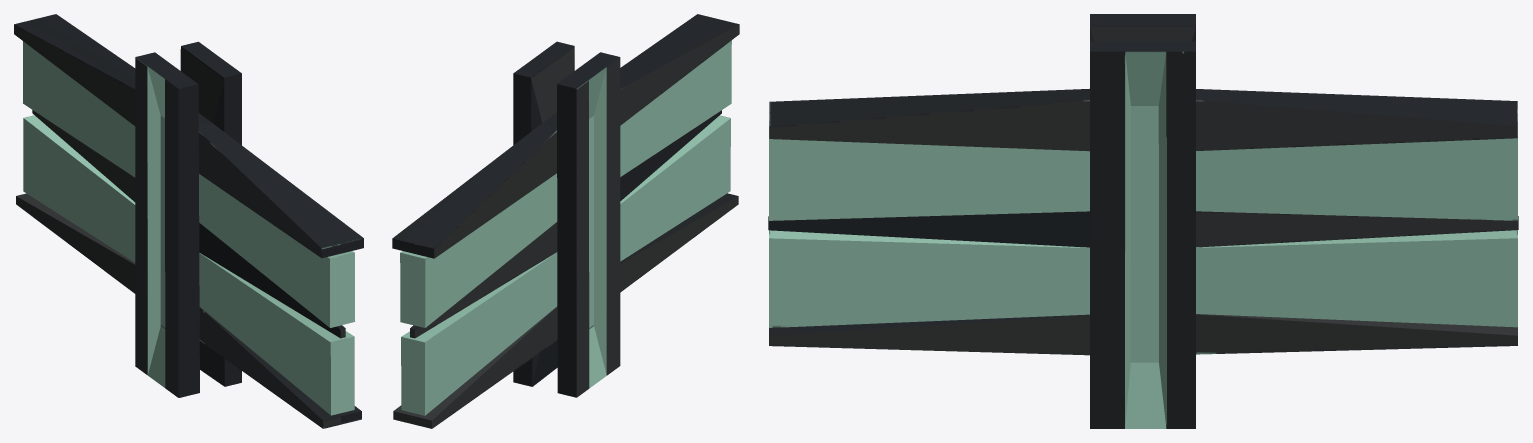
The model's file is FenceGreenTexture.fbx.
The picture shows the model from 3 angles, left to right: view 1: azimuth 30°, elevation 25°; view 2: azimuth 150°, elevation 25°; view 3: azimuth 270°, elevation 25°; orthographic projection. The views are drawn at different scales.
Visible parts, largest first — view 1: pCube1; view 2: pCube1; view 3: pCube1.
Part boxes in pixels (<box>): pCube1: <box>14,14,363,428</box>; pCube1: <box>392,14,739,428</box>; pCube1: <box>768,14,1518,428</box>.
Size of the model in its own units: 1.06 by 4.92 by 8.87.
Materials: 1 (1 with a texture image).
